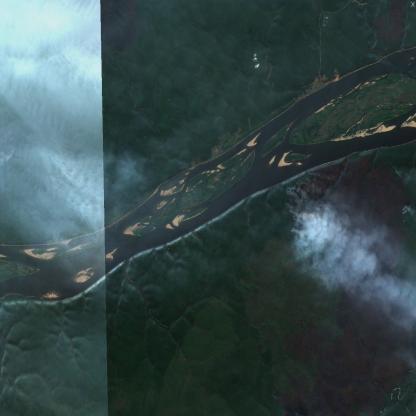fire: (281, 172, 331, 274), (0, 122, 19, 168)
